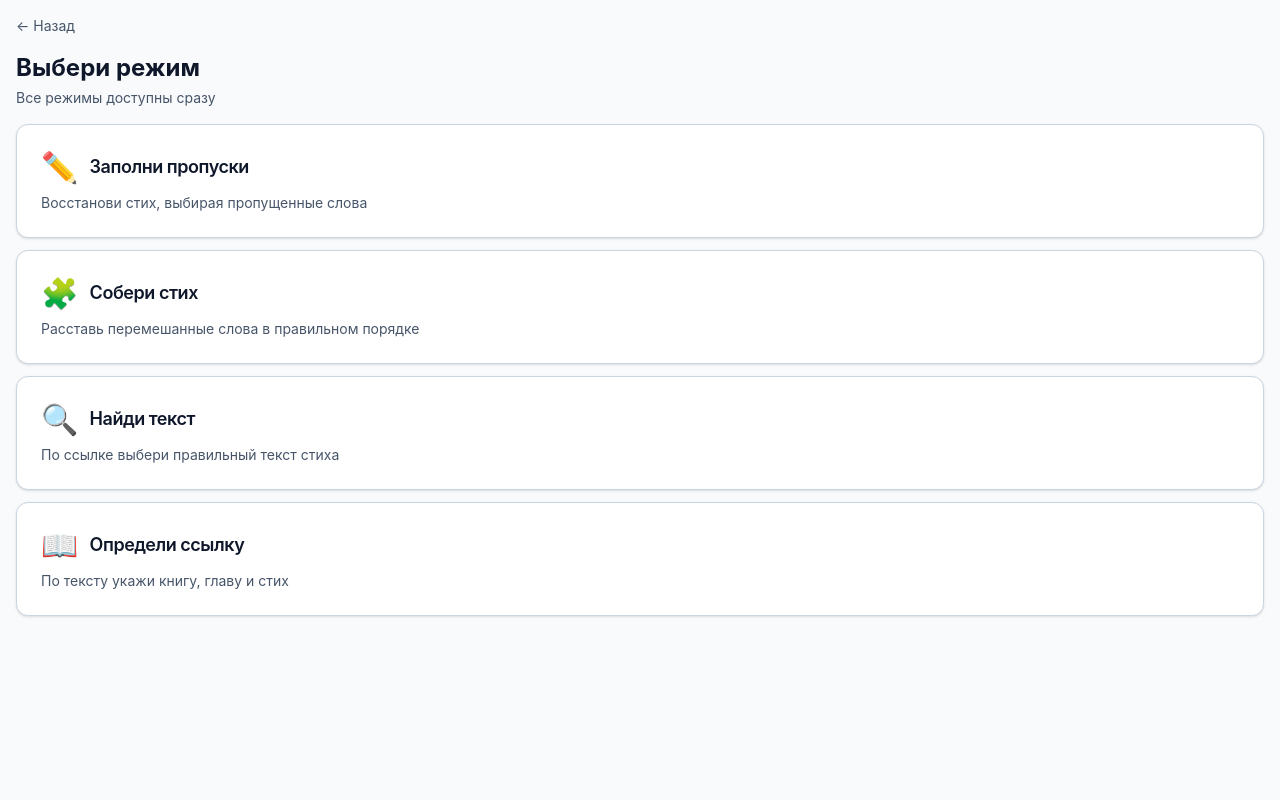
Test: ModeSelectionPage (integration) › shows a generic error when starting a session fails unexpectedly
Expected: the heading "Выбери режим" is shown, [16,53,200,82]
Step 1. Click the text "Найди текст" → (118, 419), box [41,401,195,437]
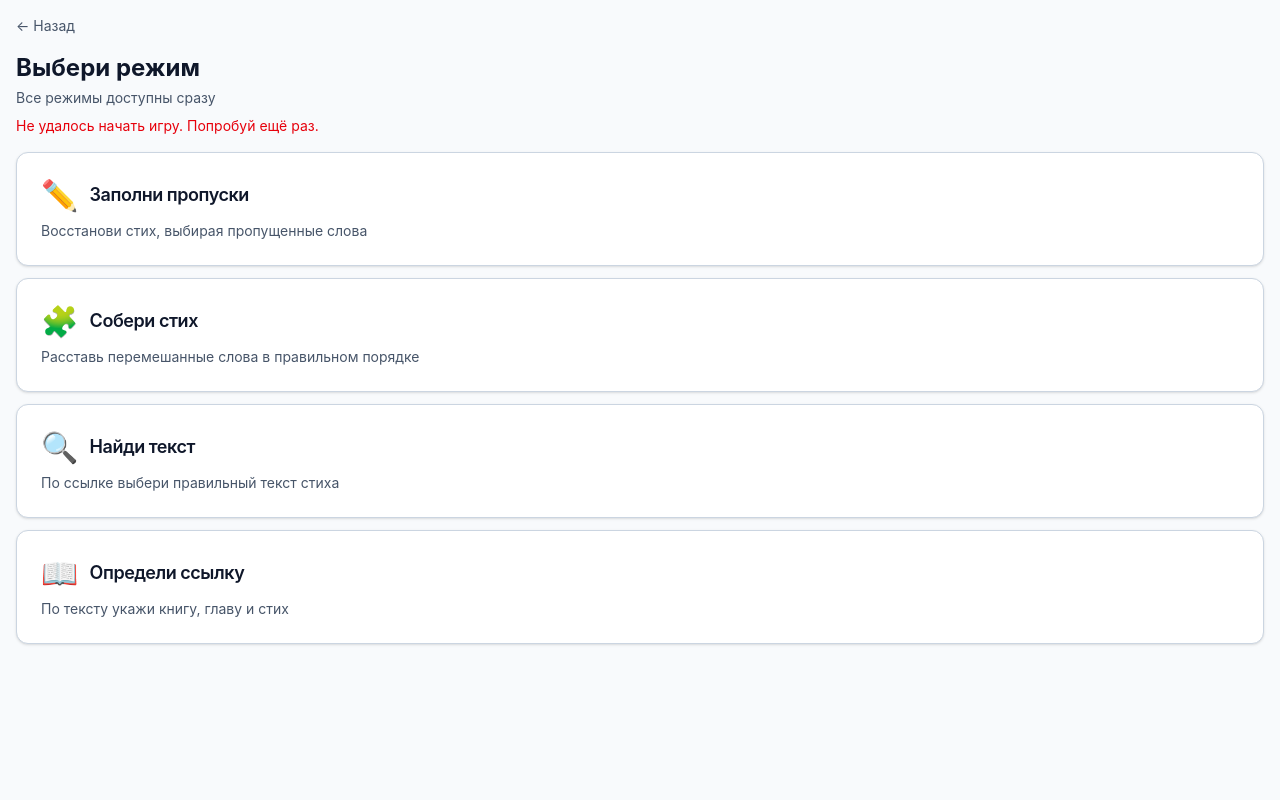
Expected: the text "Не удалось начать игру. Попробуй ещё раз." is shown, [16,117,319,134]
